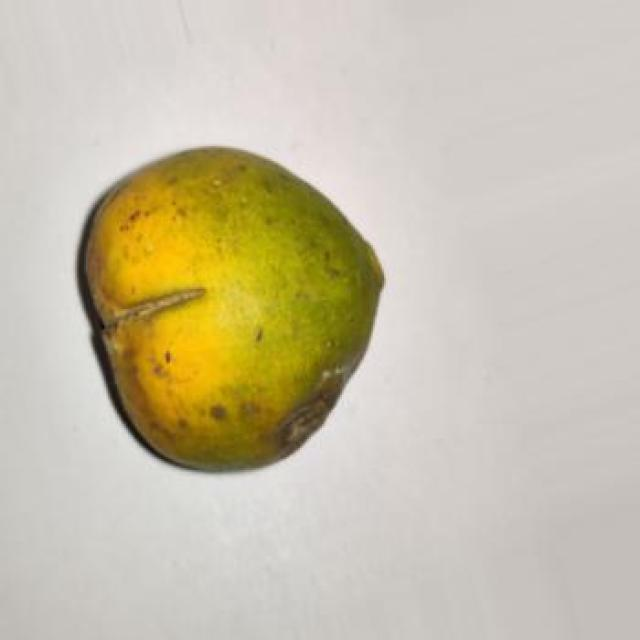damaged: (84, 148, 382, 466)
